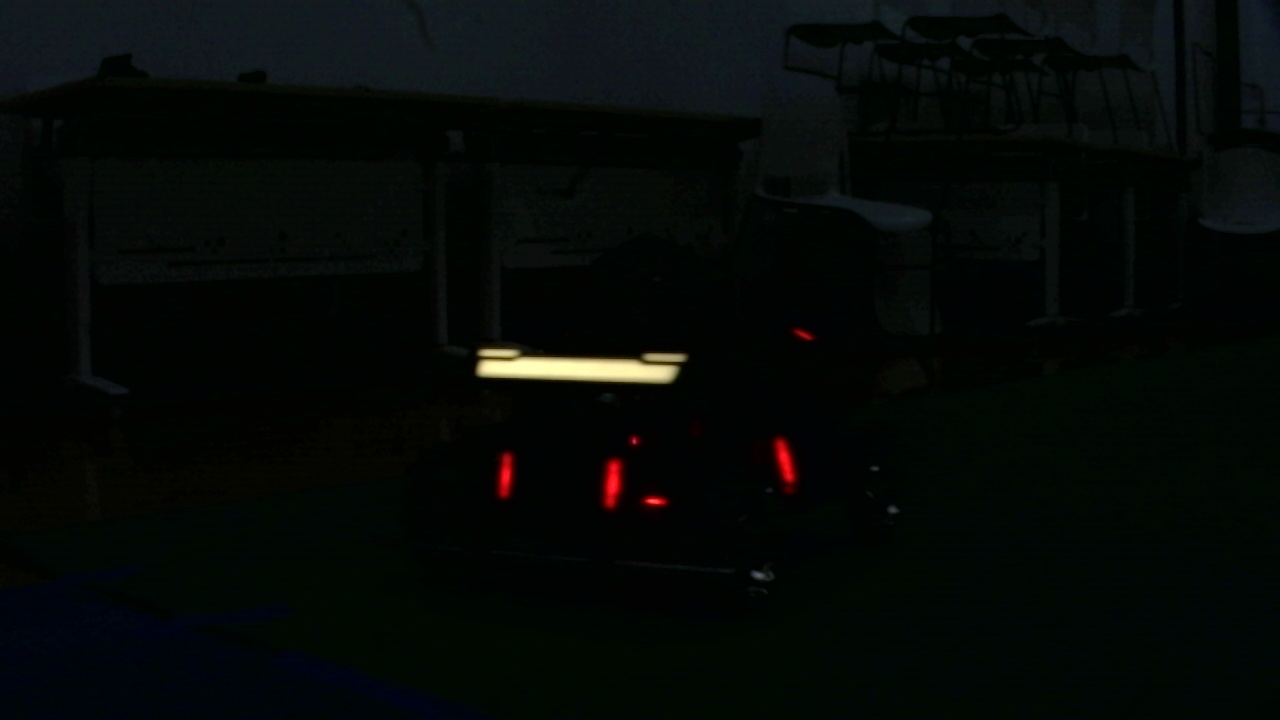lamp: (599, 440, 627, 516), (495, 439, 520, 503), (774, 431, 798, 482)
notpair1: (600, 432, 797, 518)
pair1: (497, 453, 624, 518)
